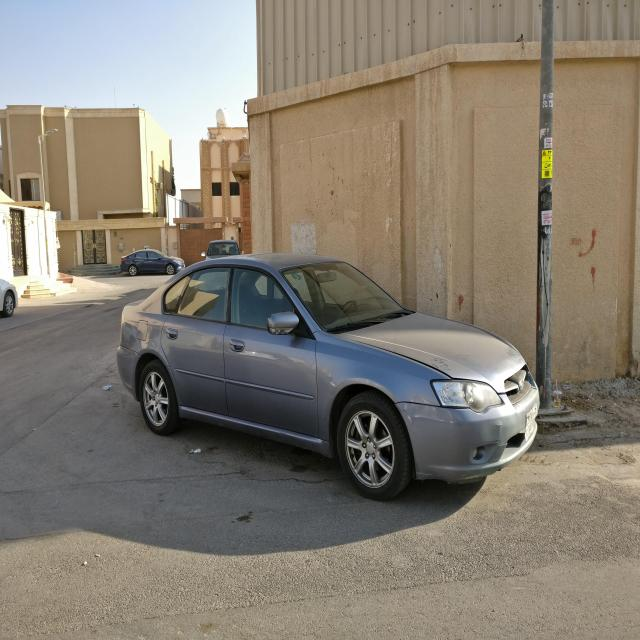license_plate: (524, 402, 536, 442)
